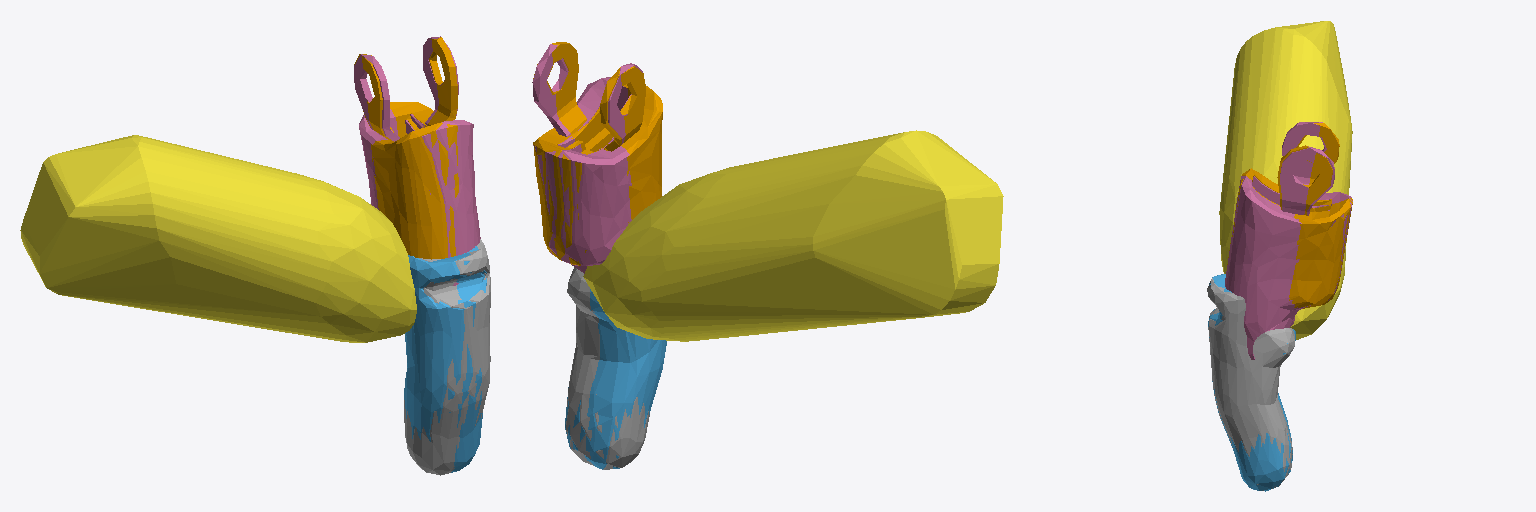
robot.urdf — ability_hand:
<!--
	NOTES:
	Units:
		Distance: m
		Angles: rad (only option)
		Mass: kg
		Inertia: kg*m^2
		
	Notes on intertia:
		-The inertias are calculated for uniform density with weights that may or may not be accurate.
		At the time of this writing only the thumb flexor weight is correct. The palm is a 'best guess' 
		approximation and the fingers are likely off by an order of magnitude
	
	Notes on finger q2:
		-The hand is a 4 bar linkage mechanism forming an 'X'. 4 bar linkages are not supported in the 
		urdf format. The motion of the second finger joint is fully defined by the motion of the first 
		finger joint. The calculation to find the index finger second joint angle given the first is provided
		in a matlab script elsewhere in this repository.
-->
<robot name="ability_hand">

	<mujoco>
         <compiler 
         meshdir="." 
         balanceinertia="true" 
         discardvisual="false" />
	</mujoco>
	
	 <link name="world"/>
	 <joint name="floating_base" type="floating">
		 <origin rpy="0 0 0" xyz="0 0 0"/>
		 <parent link="world"/>
		 <child link="base"/>
	 </joint>
	
	<link name="base" >
		<inertial>
			<mass value = "0.400"/>
			<inertia ixx="978.26e-6" ixy = "87.34e-6" ixz = "322.99e-6" iyy = "1244.78e-6" iyz = "244.74e-6" izz = "456.22e-6" />
			<origin xyz = "22.41911e-3 -0.15798201e-3 -0.01319866e-3" rpy = "0 0 0"/>
		</inertial>
		
<!-- 		<visual name="palm_mesh">
			<origin rpy = "0 0 0" xyz = "0 0 0"/>
			<geometry>
				<mesh filename="models/FB_palm_ref_MIR.STL"/>
			</geometry>
		</visual>		
		<visual name="wrist_mesh">
			<origin rpy = "0 0 0" xyz = "0 0 0"/>
			<geometry>
				<mesh filename="models/WRISTADAPTER_MIR.STL"/>
			</geometry>
		</visual>		
 -->		
		<collision name="palm_hull">
			<origin rpy = "0 0 0" xyz = "0 0 0"/>
			<geometry>
				<mesh filename="models/palm_hull_mir.STL"/>
			</geometry>
		</collision>				
	</link>
	
	
	
	<link name="index_L1" >
		<inertial>
			<mass value = "0.00635888"/>
			<inertia ixx="0.29766e-6" ixy = "-0.06447133e-6" ixz = "-0.00423315e-6" iyy = "3.6947967e-6" iyz = "0.00083028e-6" izz = "3.8176336e-6" />
			<origin xyz = "22.41911e-3 -0.15798201e-3 -0.01319866e-3" rpy = "0 0 0"/>
		</inertial>

<!-- 		<visual name="index_mesh_1">
			<origin xyz = "38.472723e-3 3.257695e-3 0.000000" rpy = "0 0 0.084474"/>
			<geometry>
				<mesh filename="models/idx-F1.STL"/>
			</geometry>
		</visual>
 -->
 		<collision name="index_hull_1">
			<origin xyz = "38.472723e-3 3.257695e-3 0.000000" rpy = "0 0 0.084474"/>
			<geometry>
				<mesh filename="models/idx-F1-hull.STL"/>
			</geometry>
		</collision>

	</link>
	<link name="index_L2" >
		<inertial>
			<mass value = "0.00645"/>
			<inertia ixx="0.82671e-6" ixy = "-1.08876e-6" ixz = "-0.00037e-6" iyy = "1.98028e-6" iyz = "0.00081e-6" izz = "2.64638e-6" />
			<origin rpy = "0 0 0" xyz = "13.36818e-3 -8.75392e-3 -0.02886e-3"/>
		</inertial>		

<!-- 		<visual name="index_mesh_2">
			<origin rpy = "0 0 0" xyz = "9.1241e-3 0 0"/>
			<geometry>
				<mesh filename="models/idx-F2.STL"/>
			</geometry>
		</visual>
 -->
		<collision name="index_mesh_2">
			<origin rpy = "0 0 0" xyz = "9.1241e-3 0 0"/>
			<geometry>
				<mesh filename="models/idx-F2-hull.STL"/>
			</geometry>
		</collision>
 
	</link>
	<joint name="index_q1" type="revolute">
		<parent link="base"/>
		<child link="index_L1"/>
		<origin xyz = " 0.00949 -0.01304 -0.06295 " rpy = " -1.1595426535897932 1.284473 -1.0510016535897932 " />
		<axis xyz="0 0 1"/>
		<limit lower = "0" upper = "2.0943951" effort = "0.20" velocity = "8.0677777442"/>		<!-- angles in rad, efforts in N-m, velocity in rad/s -->
		<dynamics damping = "0.001" friction = "0.001" />	<!-- Friction coefficient is not from quantitative measurement -->
	</joint>
	<joint name="index_q2" type="revolute">
		<parent link="index_L1"/>
		<child link="index_L2"/>
		<origin xyz = "38.472723e-3 3.257695e-3 0.000000e-3" rpy = "0 0 0.084474"/>
		<axis xyz="0 0 1"/>
		<limit lower = "0.0" upper = "2.6586" effort = "0.20" velocity = "8.0677777442"/>		<!-- angles in rad, efforts in N-m, velocity in rad/s -->
		<dynamics damping = "0.001" friction = "0.001" />	<!-- Friction coefficient is not from quantitative measurement -->
		<mimic joint = "index_q1" multiplier =  "1.05851325" offset = "0.72349796"/>
	</joint>
	
	

	<link name="middle_L1" >
		<inertial>
			<mass value = "0.00635888"/>
			<inertia ixx="0.29766e-6" ixy = "-0.06447133e-6" ixz = "-0.00423315e-6" iyy = "3.6947967e-6" iyz = "0.00083028e-6" izz = "3.8176336e-6" />
			<origin xyz = "22.41911e-3 -0.15798201e-3 -0.01319866e-3" rpy = "0 0 0"/>
		</inertial>
<!-- 		
		<visual name="middle_mesh_1">
			<origin xyz = "38.472723e-3 3.257695e-3 0.000000" rpy = "0 0 0.084474"/>
			<geometry>
				<mesh filename="models/idx-F1.STL"/>
			</geometry>
		</visual>
 -->		
 		<collision name="middle_hull_1">
			<origin xyz = "38.472723e-3 3.257695e-3 0.000000" rpy = "0 0 0.084474"/>
			<geometry>
				<mesh filename="models/idx-F1-hull.STL"/>
			</geometry>
		</collision>
 
	</link>
	<link name="middle_L2" >
		<inertial>
			<mass value = "0.00645"/>
			<inertia ixx="0.82671e-6" ixy = "-1.08876e-6" ixz = "-0.00037e-6" iyy = "1.98028e-6" iyz = "0.00081e-6" izz = "2.64638e-6" />
			<origin rpy = "0 0 0" xyz = "13.36818e-3 -8.75392e-3 -0.02886e-3"/>
		</inertial>
		
<!-- 		<visual name="middle_mesh_2">
			<origin rpy = "0 0 0" xyz = "9.1241e-3 0 0"/>
			<geometry>
				<mesh filename="models/idx-F2.STL"/>
			</geometry>
		</visual>
 -->		
		<collision name="middle_hull_2">
			<origin rpy = "0 0 0" xyz = "9.1241e-3 0 0"/>
			<geometry>
				<mesh filename="models/idx-F2-hull.STL"/>
			</geometry>
		</collision>
	
		
	</link>
	<joint name="middle_q1" type="revolute">
		<parent link="base"/>
		<child link="middle_L1"/>
		<origin xyz = " -0.009653191 -0.015310271 -0.067853949 " rpy = " -1.2810616535897934 1.308458 -1.2453756535897933 " />
		<limit lower = "0" upper = "2.0943951" effort = "0.20" velocity = "8.0677777442"/>		<!-- angles in rad, efforts in N-m, velocity in rad/s -->
		<dynamics damping = "0.001" friction = "0.001" />	<!-- Friction coefficient is not from quantitative measurement -->
		<axis xyz="0 0 1"/>
	</joint>
	<joint name="middle_q2" type="revolute">
		<parent link="middle_L1"/>
		<child link="middle_L2"/>
		<origin xyz = "38.472723e-3 3.257695e-3 0.000000" rpy = "0 0 0.084474"/>
		<axis xyz="0 0 1"/>
		<limit lower = "0.0" upper = "2.6586" effort = "0.20" velocity = "8.0677777442"/>		<!-- angles in rad, efforts in N-m, velocity in rad/s -->
		<dynamics damping = "0.001" friction = "0.001" />	<!-- Friction coefficient is not from quantitative measurement -->
		<mimic joint = "middle_q1" multiplier =  "1.05851325" offset = "0.72349796"/>
	</joint>





	<link name="ring_L1" >
		<inertial>
			<mass value = "0.00635888"/>
			<inertia ixx="0.29766e-6" ixy = "-0.06447133e-6" ixz = "-0.00423315e-6" iyy = "3.6947967e-6" iyz = "0.00083028e-6" izz = "3.8176336e-6" />
			<origin xyz = "22.41911e-3 -0.15798201e-3 -0.01319866e-3" rpy = "0 0 0"/>
		</inertial>
		
		<visual name="ring_mesh_1">
			<origin xyz = "38.472723e-3 3.257695e-3 0.000000" rpy = "0 0 0.084474"/>
			<geometry>
				<mesh filename="models/idx-F1.STL"/>
			</geometry>
		</visual>
		
		
	</link>
	<link name="ring_L2" >
		<inertial>
			<mass value = "0.00645"/>
			<inertia ixx="0.82671e-6" ixy = "-1.08876e-6" ixz = "-0.00037e-6" iyy = "1.98028e-6" iyz = "0.00081e-6" izz = "2.64638e-6" />
			<origin rpy = "0 0 0" xyz = "13.36818e-3 -8.75392e-3 -0.02886e-3"/>
		</inertial>
		<visual name="ring_mesh_2">
			<origin rpy = "0 0 0" xyz = "9.1241e-3 0 0"/>
			<geometry>
				<mesh filename="models/idx-F2.STL"/>
			</geometry>
		</visual>		
	</link>
	<joint name="ring_q1" type="revolute">
		<parent link="base"/>
		<child link="ring_L1"/>
		<origin xyz = " -0.02995426 -0.014212492 -0.067286105 " rpy = " -1.424994653589793 1.321452 -1.4657306535897934 " />
		<limit lower = "0" upper = "2.0943951" effort = "0.20" velocity = "8.0677777442"/>		<!-- angles in rad, efforts in N-m, velocity in rad/s -->
		<dynamics damping = "0.001" friction = "0.001" />	<!-- Friction coefficient is not from quantitative measurement -->
		<axis xyz="0 0 1"/>
	</joint>
	<joint name="ring_q2" type="revolute">
		<parent link="ring_L1"/>
		<child link="ring_L2"/>
		<origin xyz = "38.472723e-3 3.257695e-3 0.000000" rpy = "0 0 0.084474"/>
		<axis xyz="0 0 1"/>
		<limit lower = "0.0" upper = "2.6586" effort = "0.20" velocity = "8.0677777442"/>		<!-- angles in rad, efforts in N-m, velocity in rad/s -->
		<dynamics damping = "0.001" friction = "0.001" />	<!-- Friction coefficient is not from quantitative measurement -->
		<mimic joint = "ring_q1" multiplier =  "1.05851325" offset = "0.72349796"/>
	</joint>








	<link name="pinky_L1" >
		<inertial>
			<mass value = "0.00635888"/>
			<inertia ixx="0.29766e-6" ixy = "-0.06447133e-6" ixz = "-0.00423315e-6" iyy = "3.6947967e-6" iyz = "0.00083028e-6" izz = "3.8176336e-6" />
			<origin xyz = "22.41911e-3 -0.15798201e-3 -0.01319866e-3" rpy = "0 0 0"/>
		</inertial>
		
		<visual name="pinky_mesh_1">
			<origin xyz = "38.472723e-3 3.257695e-3 0.000000" rpy = "0 0 0.084474"/>
			<geometry>
				<mesh filename="models/idx-F1.STL"/>
			</geometry>
		</visual>
		
	</link>
	<link name="pinky_L2" >
		<inertial>
			<mass value = "0.00645"/>
			<inertia ixx="0.82671e-6" ixy = "-1.08876e-6" ixz = "-0.00037e-6" iyy = "1.98028e-6" iyz = "0.00081e-6" izz = "2.64638e-6" />
			<origin rpy = "0 0 0" xyz = "13.36818e-3 -8.75392e-3 -0.02886e-3"/>
		</inertial>
		<visual name="pinky_mesh_2">
			<origin rpy = "0 0 0" xyz = "9.1241e-3 0 0"/>
			<geometry>
				<mesh filename="models/idx-F2.STL"/>
			</geometry>
		</visual>
		
	</link>
	<joint name="pinky_q1" type="revolute">
		<parent link="base"/>
		<child link="pinky_L1"/>
		<origin xyz = " -0.049521293 -0.011004583 -0.063029065 " rpy = " -1.3764826535897934 1.32222 -1.4832096535897932 " />
		<limit lower = "0" upper = "2.0943951" effort = "0.20" velocity = "8.0677777442"/>		<!-- angles in rad, efforts in N-m, velocity in rad/s -->
		<dynamics damping = "0.001" friction = "0.001" />	<!-- Friction coefficient is not from quantitative measurement -->
		<axis xyz="0 0 1"/>
	</joint>
	<joint name="pinky_q2" type="revolute">
		<parent link="pinky_L1"/>
		<child link="pinky_L2"/>
		<origin xyz = "38.472723e-3 3.257695e-3 0.000000" rpy = "0 0 0.084474"/>
		<limit lower = "0.0" upper = "2.6586" effort = "0.20" velocity = "8.0677777442"/>		<!-- angles in rad, efforts in N-m, velocity in rad/s -->
		<dynamics damping = "0.001" friction = "0.001" />	<!-- Friction coefficient is not from quantitative measurement -->
		<axis xyz="0 0 1"/>
		<mimic joint = "pinky_q1" multiplier =  "1.05851325" offset = "0.72349796"/>
	</joint>






	<link name="thumb_L1" >
		<inertial>
			<mass value = "0.00268342"/>
			<inertia ixx="0.16931e-6" ixy = "-0.076214e-6" ixz = "-0.16959148e-6" iyy = "0.77769934e-6" iyz = "0.0156622e-6" izz = "0.7249122e-6" />
			<origin rpy = "0 0 0" xyz = "14.606e-3 -1.890854e-3 -3.1155356e-3"/>
		</inertial>
		
		<visual name="thumb_mesh_1">
			<origin xyz = " 0.0278283501 1.7436510745838653e-19 0.0147507 " rpy = " 1.832595714594045 -0.0 5.366520605522463e-18 " />
			<geometry>
				<mesh filename="models/thumb-F1-MIR.STL"/>
			</geometry>
		</visual>
		
	</link>
	<link name="thumb_L2" >
		<inertial>
			<mass value = "0.0055"/>
			<inertia ixx="4.4789082e-6" ixy = "4.4789082e-6" ixz = "-0.62144934e-6" iyy = "15.600996e-6" iyz = "-0.07466143e-6" izz = "17.908554e-6" />
			<origin rpy = "0 0 0" xyz = "30.020522e-3 5.59476e-3 -4.1504356e-3"/>
		</inertial>
		
		<visual name="thumb_mesh_2">
			<origin xyz = "65.18669e-3 23.34021e-3 3.93483e-3" rpy = "-3.141592 0 0.343830"/>
			<geometry>
				<mesh filename="models/thumb-F2.STL"/>
			</geometry>
		</visual>
		
	</link>
	<joint name="thumb_q1" type="revolute">
		<parent link="base"/>
		<child link="thumb_L1"/>
		<origin xyz = " 0.0 0.0 0.0 " rpy = " 3.141592653589793 -0.0 -0.18884434641020664 " />
		<axis xyz="0 0 1"/>
		<limit lower = "-2.0943951" upper = "0" effort = "0.20" velocity = "8.0677777442"/>		<!-- angles in rad, efforts in N-m, velocity in rad/s -->
		<dynamics damping = "0.001" friction = "0.001" />	<!-- Friction coefficient is not from quantitative measurement -->
	</joint>
	<joint name="thumb_q2" type="revolute">
		<parent link="thumb_L1"/>
		<child link="thumb_L2"/>
		<origin xyz = " 0.0278283501 1.7436510745838653e-19 0.0147507 " rpy = " 1.832595714594045 -0.0 5.366520605522463e-18 " />
		<axis xyz="0 0 1"/>
		<limit lower = "0" upper = "2.0943951" effort = "0.20" velocity = "8.0677777442"/>		<!-- angles in rad, efforts in N-m, velocity in rad/s -->
		<dynamics damping = "0.001" friction = "0.001" />	<!-- Friction coefficient is not from quantitative measurement -->		
	</joint>
</robot>

--- Render facts (derived) ---
Views: 3 orthographic renders of the robot side by side, from view 1: azimuth 30°, elevation 25°; view 2: azimuth 150°, elevation 25°; view 3: azimuth 270°, elevation 25°.
Robot: ability_hand — 12 links, 11 joints (10 revolute, 1 floating); root link world; default pose: all joints at 0.
Visible links, largest first — view 1: thumb_L2, pinky_L1, pinky_L2, ring_L2, ring_L1; view 2: thumb_L2, pinky_L1, ring_L1, pinky_L2, ring_L2; view 3: thumb_L2, ring_L1, ring_L2, pinky_L1, pinky_L2.
Boxes of the visible links, <box> form: thumb_L2: <box>20,135,416,342</box>; pinky_L1: <box>354,37,458,259</box>; pinky_L2: <box>404,246,486,472</box>; ring_L2: <box>404,239,490,475</box>; ring_L1: <box>354,36,480,285</box>; thumb_L2: <box>583,130,1003,341</box>; pinky_L1: <box>533,42,662,265</box>; ring_L1: <box>532,44,642,273</box>; pinky_L2: <box>565,289,666,469</box>; ring_L2: <box>566,267,649,469</box>; thumb_L2: <box>1219,21,1352,339</box>; ring_L1: <box>1225,122,1352,359</box>; ring_L2: <box>1207,278,1294,490</box>; pinky_L1: <box>1227,123,1352,308</box>; pinky_L2: <box>1208,274,1295,491</box>.
Bounding box of the posed robot: 82.62 × 28.98 × 76.98 m (x, y, z).
Meshes: 4 distinct files referenced, 5 mesh visuals loaded (3 binary STL); not drawn: 1 (reference not matched to a file when rendering).